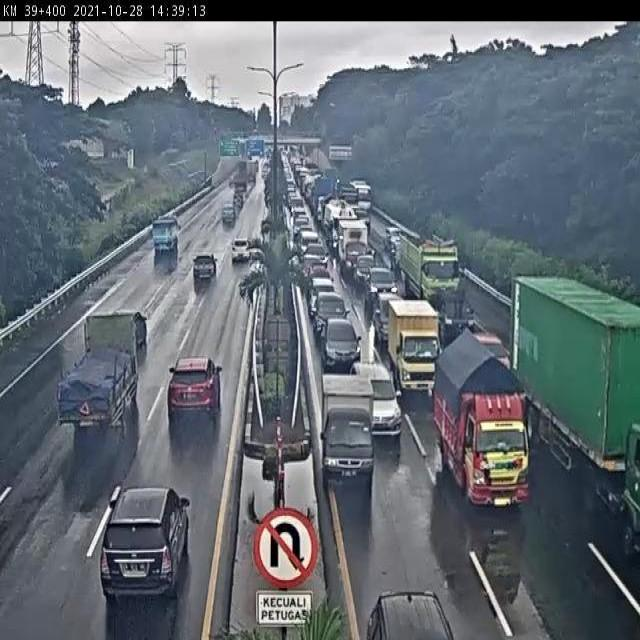big truck: (507, 269, 640, 512), (396, 233, 464, 331)
car: (83, 495, 192, 604), (359, 550, 463, 640), (153, 334, 232, 438), (351, 357, 398, 431), (323, 315, 357, 364), (118, 310, 159, 346), (317, 296, 349, 331), (187, 251, 219, 285), (310, 278, 340, 314), (222, 244, 248, 279), (368, 267, 392, 300), (216, 209, 233, 235)
small truck: (425, 311, 520, 492), (67, 314, 135, 450), (326, 368, 374, 480), (383, 295, 439, 389), (145, 214, 175, 270)
